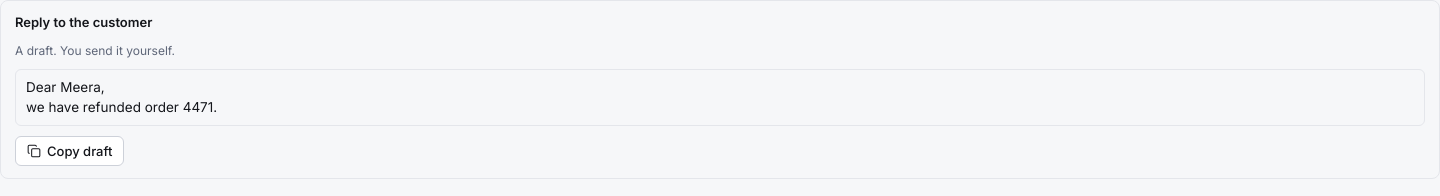
Test: ReplyDraft › says so, rather than failing silently, when the browser refuses to copy
The width and height of the screenshot is (1440, 196).
Click the button "Copy draft": (70, 151) [15, 136, 124, 166]
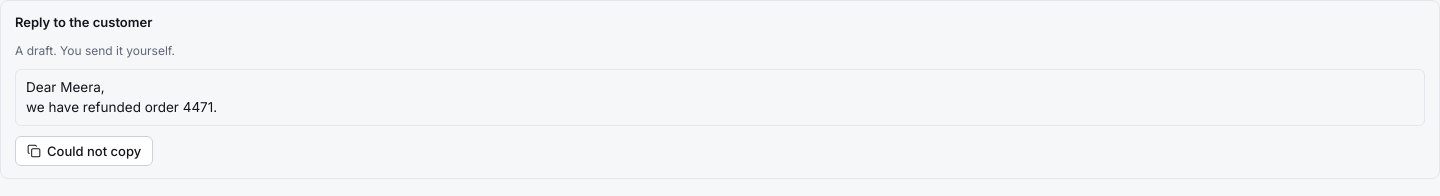
Check: the button "Could not copy" is shown, box [15, 136, 153, 166]
